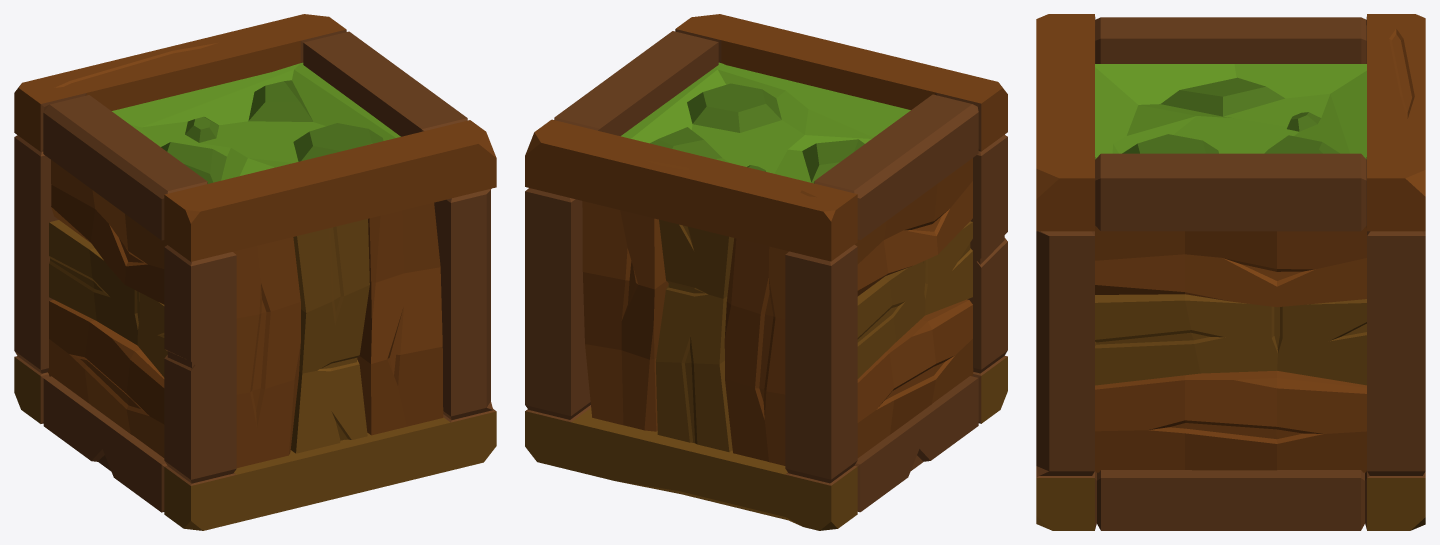
Rendered from CrateFull.fbx.
3 views of the same model, side by side, from view 1: azimuth 30°, elevation 25°; view 2: azimuth 150°, elevation 25°; view 3: azimuth 270°, elevation 25° (orthographic). The views are drawn at different scales.
Visible parts, largest first — view 1: CrateFull.001, CrateFull, Food; view 2: CrateFull.001, CrateFull, Food; view 3: CrateFull.001, CrateFull, Food.
Boxes of the visible parts, <box> form: CrateFull.001: <box>14,14,496,530</box>; CrateFull: <box>48,160,443,467</box>; Food: <box>112,62,400,183</box>; CrateFull.001: <box>525,14,1007,530</box>; CrateFull: <box>582,158,973,465</box>; Food: <box>621,62,910,183</box>; CrateFull.001: <box>1036,14,1425,530</box>; CrateFull: <box>1095,226,1366,472</box>; Food: <box>1095,64,1366,159</box>.
Bounding box in the file's own units: 80 × 80 × 80.
